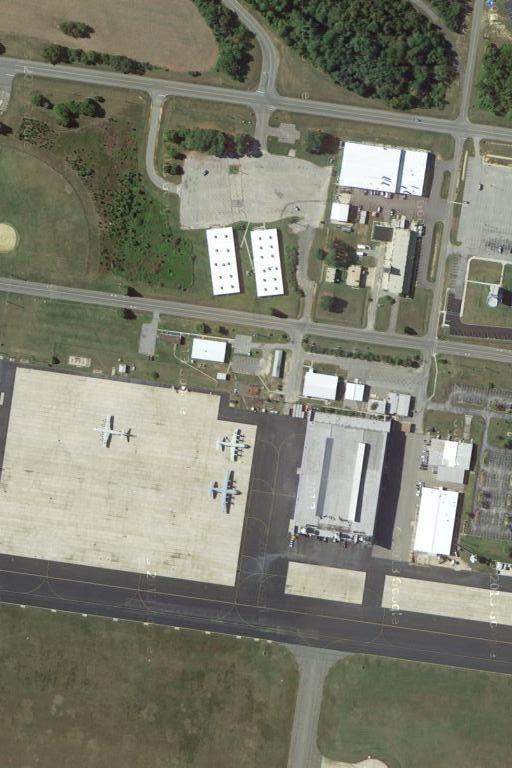C-130: (212, 423, 257, 468), (205, 467, 246, 516), (88, 412, 130, 451)
